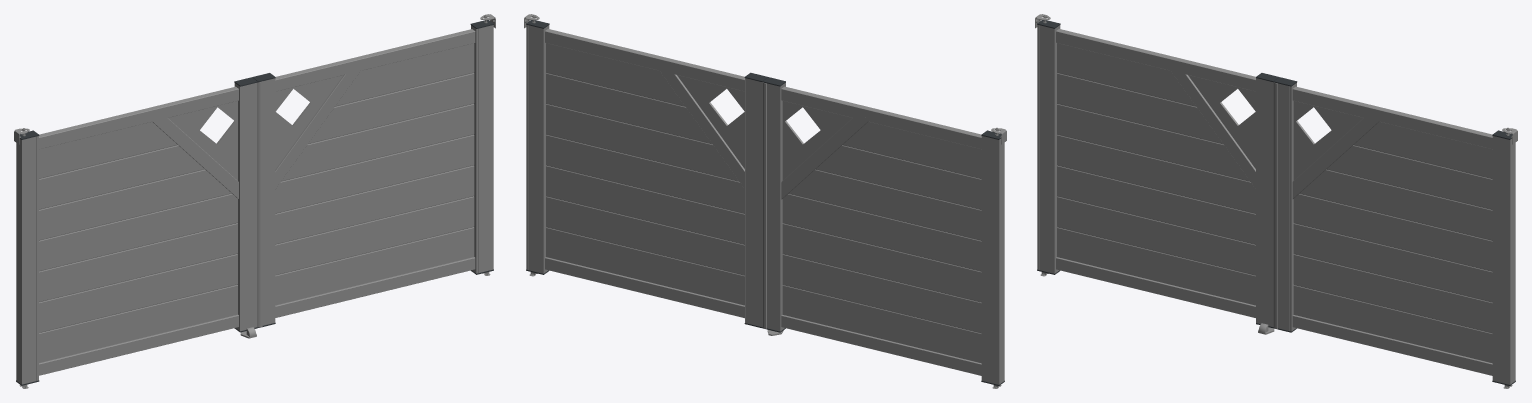
The picture shows the model from 3 angles, left to right: view 1: azimuth 30°, elevation 25°; view 2: azimuth 150°, elevation 25°; view 3: azimuth 330°, elevation 25°; orthographic projection.
Parts seen in each view (by area): view 1: Shape107412936, Shape107411759, Shape107412937, Shape107411760, Shape107412643, Shape107412971, Shape107412644, Shape107412972, Shape107412935, Shape107411754, Shape107412939, Shape107412934 (+5 smaller); view 2: Shape107411759, Shape107412936, Shape107411760, Shape107412937, Shape107412643, Shape107412971, Shape107412972, Shape107412644, Shape107411754, Shape107412935, Shape107412934, Shape107412939 (+5 smaller); view 3: Shape107412936, Shape107411759, Shape107412937, Shape107411760, Shape107412971, Shape107412643, Shape107412644, Shape107412972, Shape107412935, Shape107411754, Shape107412939, Shape107412934 (+5 smaller).
Part boxes in pixels (box(x1,y1,x2,y2)): Shape107412936: box(275, 43, 474, 274); Shape107411759: box(39, 122, 237, 332); Shape107412937: box(275, 227, 474, 305); Shape107411760: box(39, 284, 237, 362); Shape107412643: box(16, 136, 38, 384); Shape107412971: box(471, 25, 493, 273); Shape107412644: box(234, 83, 257, 331); Shape107412972: box(259, 78, 275, 325); Shape107412935: box(275, 29, 475, 91); Shape107411754: box(39, 86, 238, 149); Shape107412939: box(275, 257, 475, 317); Shape107412934: box(39, 314, 238, 375); Shape107411759: box(782, 121, 981, 332); Shape107412936: box(546, 43, 744, 274); Shape107411760: box(782, 284, 981, 363); Shape107412937: box(546, 226, 744, 305); Shape107412643: box(981, 136, 1004, 384); Shape107412971: box(526, 24, 549, 273); Shape107412972: box(745, 78, 762, 326); Shape107412644: box(764, 82, 785, 331); Shape107411754: box(781, 86, 981, 149); Shape107412935: box(545, 29, 744, 91); Shape107412934: box(781, 315, 981, 375); Shape107412939: box(545, 257, 744, 318); Shape107412936: box(1293, 121, 1492, 332); Shape107411759: box(1057, 43, 1255, 274); Shape107412937: box(1293, 284, 1492, 363); Shape107411760: box(1057, 226, 1255, 305); Shape107412971: box(1492, 136, 1515, 384); Shape107412643: box(1037, 24, 1060, 273); Shape107412644: box(1256, 78, 1273, 326); Shape107412972: box(1275, 82, 1296, 331); Shape107412935: box(1292, 86, 1492, 149); Shape107411754: box(1056, 29, 1255, 91); Shape107412939: box(1292, 315, 1492, 375); Shape107412934: box(1056, 257, 1255, 317).
Bounding box in the file's own units: 3259 × 1693 × 116.
7 materials, 2 textured.
